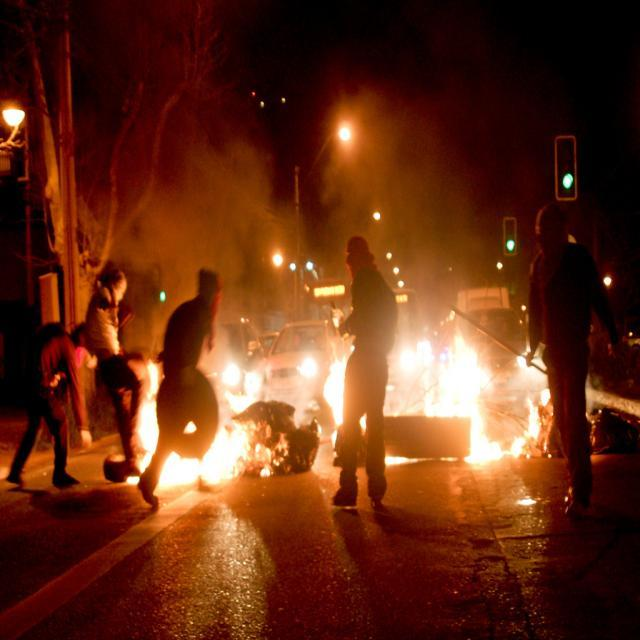Fire: (442, 349, 488, 417), (207, 432, 240, 506), (325, 360, 345, 418), (142, 394, 158, 440)
